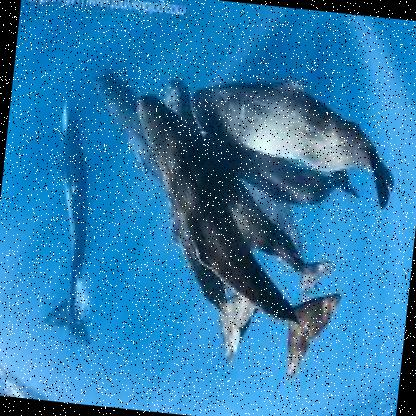sperm_whale: (19, 53, 113, 331)
